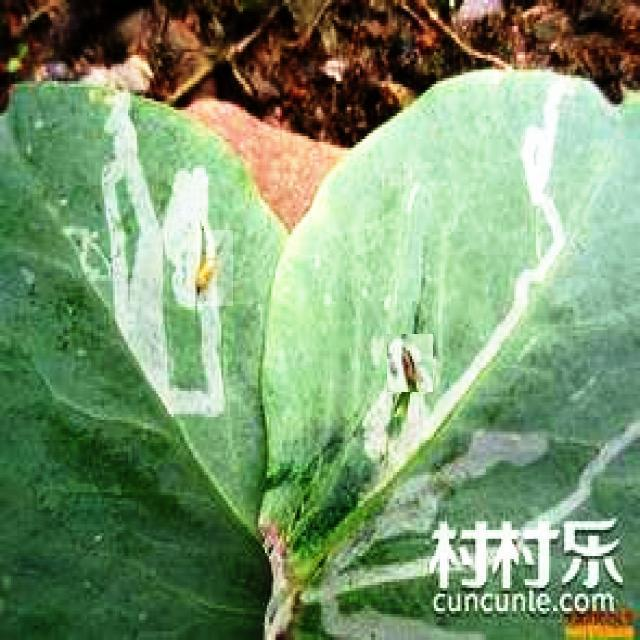whorl-maggot: (188, 230, 233, 306), (387, 335, 433, 393)
